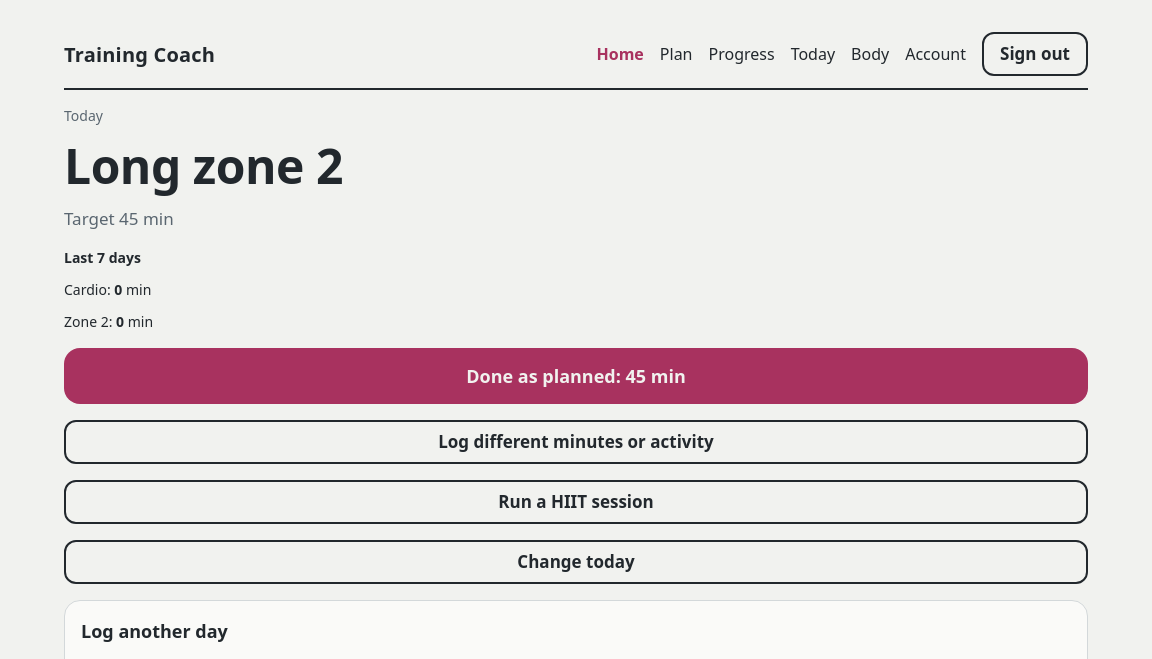
Test: a cardio day keeps Change today, and its saved screen holds the only Undo
Expected: the button "Change today" is shown, [64,540,1088,584]
Click the button "Done as planned: 45 min" at (576,376), box [64,348,1088,404]
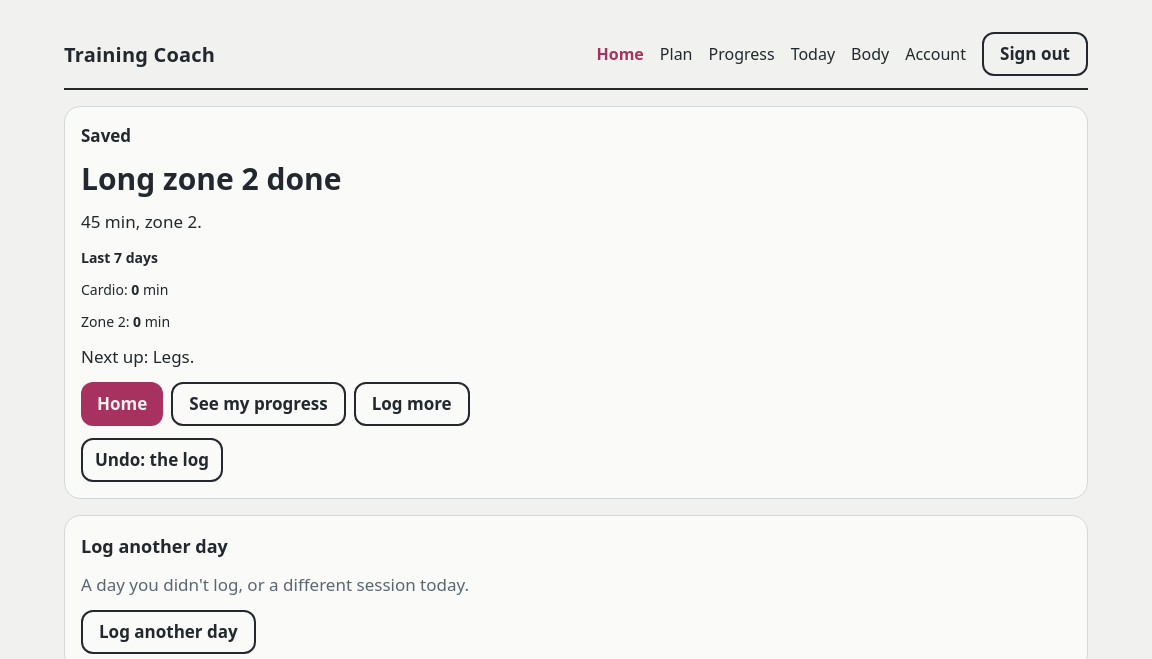
Expected: the heading "Long zone 2 done" is shown, [81,158,341,199]
Expected: the number of buttons "Undo: the log" is 1, [81,438,223,482]
Expected: the button "Change today" is gone
Click the button "Log more" at (412,404), box [354,382,470,426]
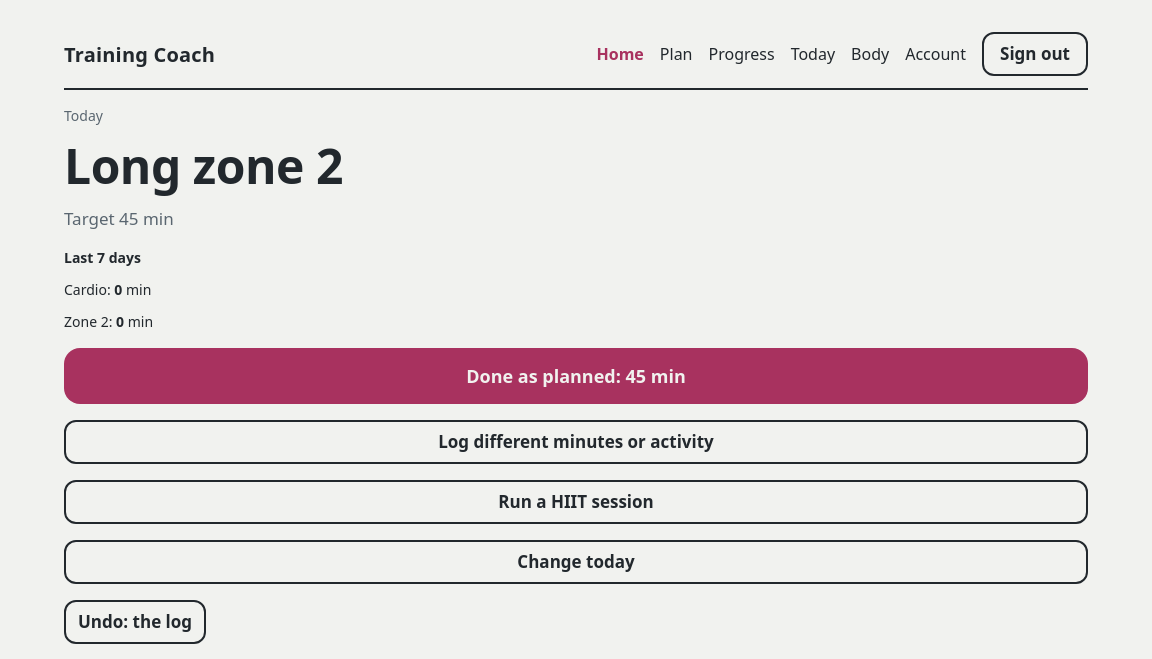
Expected: the button "Change today" is shown, [64,540,1088,584]
